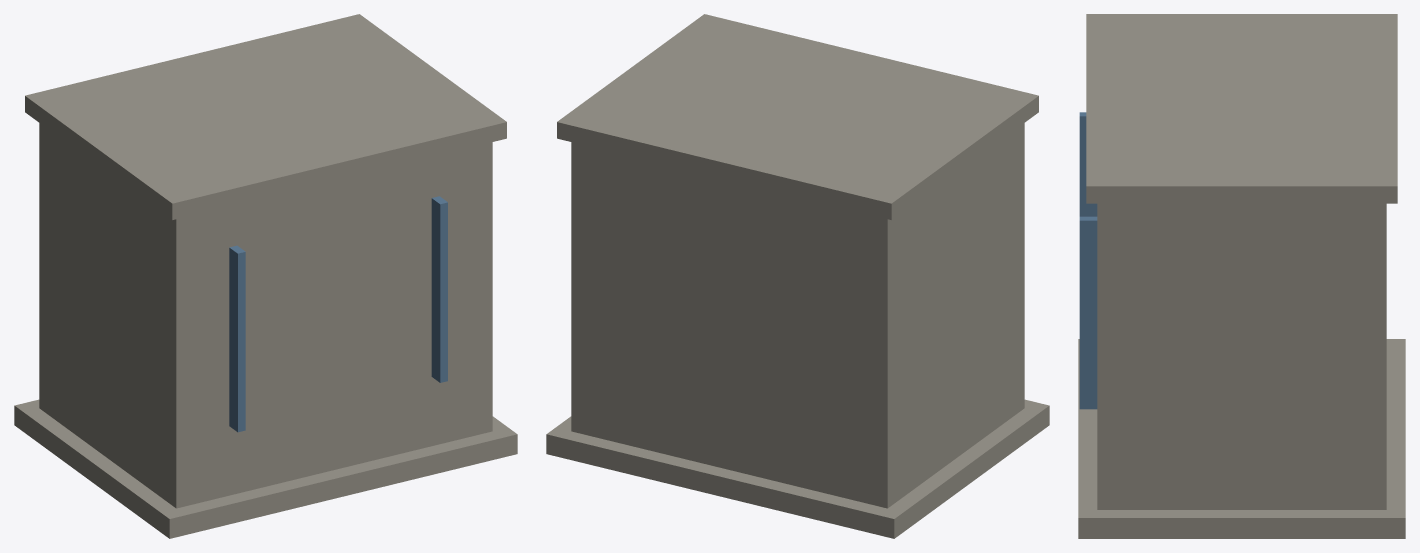
File: bld_residential_a06_lod2.glb
3 views of the same model, side by side, from view 1: azimuth 30°, elevation 25°; view 2: azimuth 150°, elevation 25°; view 3: azimuth 270°, elevation 25° (orthographic). The views are drawn at different scales.
Visible parts, largest first — view 1: body; view 2: body; view 3: body.
Boxes of the visible parts, x1,y1,x2,y2 form: body: (14, 14, 517, 538); body: (546, 14, 1049, 538); body: (1078, 14, 1405, 538).
Size of the model in its own units: 6.6 by 6 by 5.1.
